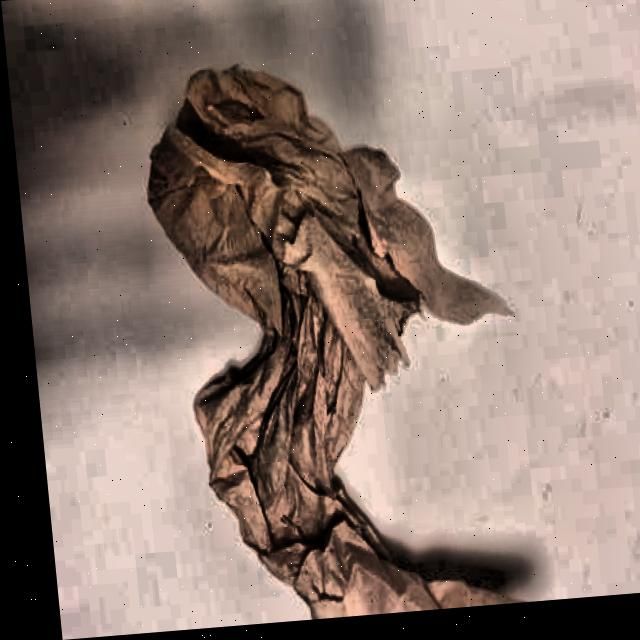trash: (132, 36, 543, 630)
